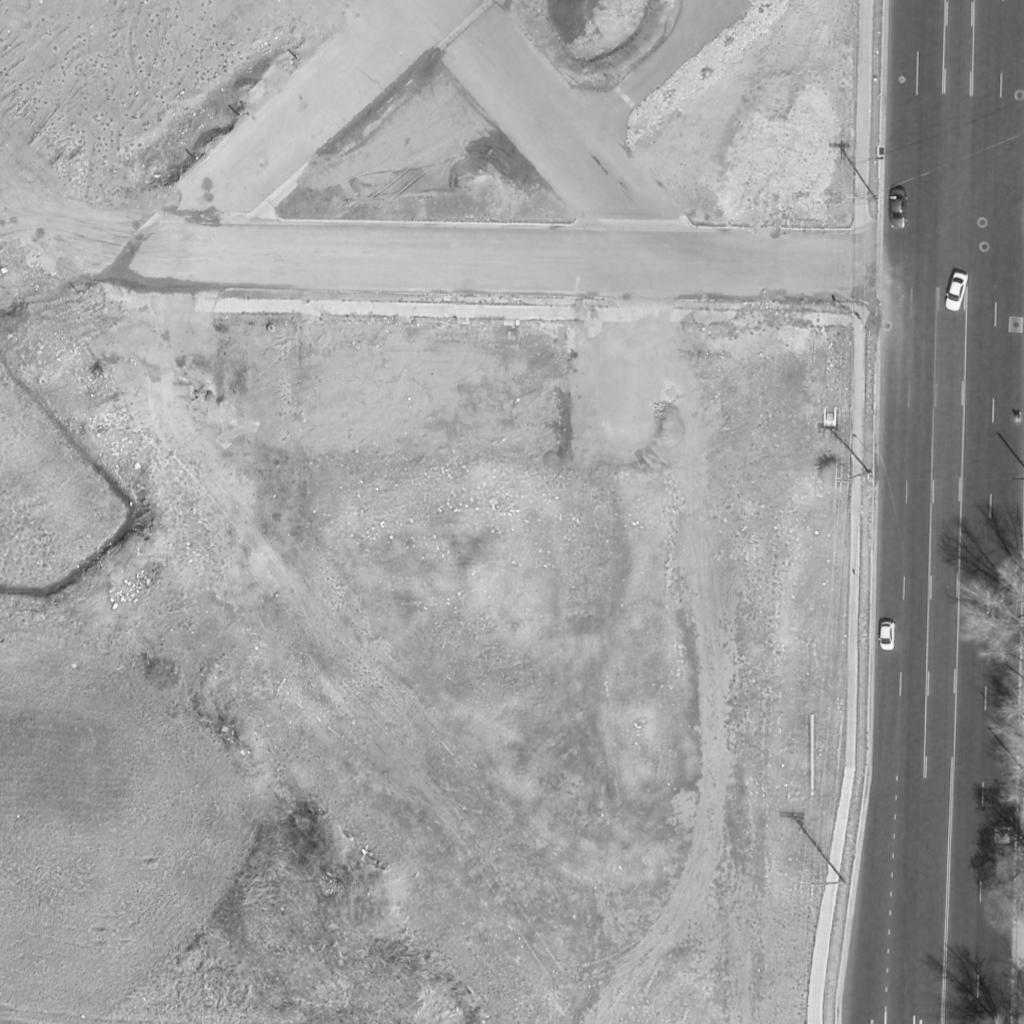vehicle: (944, 271, 970, 313), (888, 188, 908, 230), (880, 621, 896, 651)
